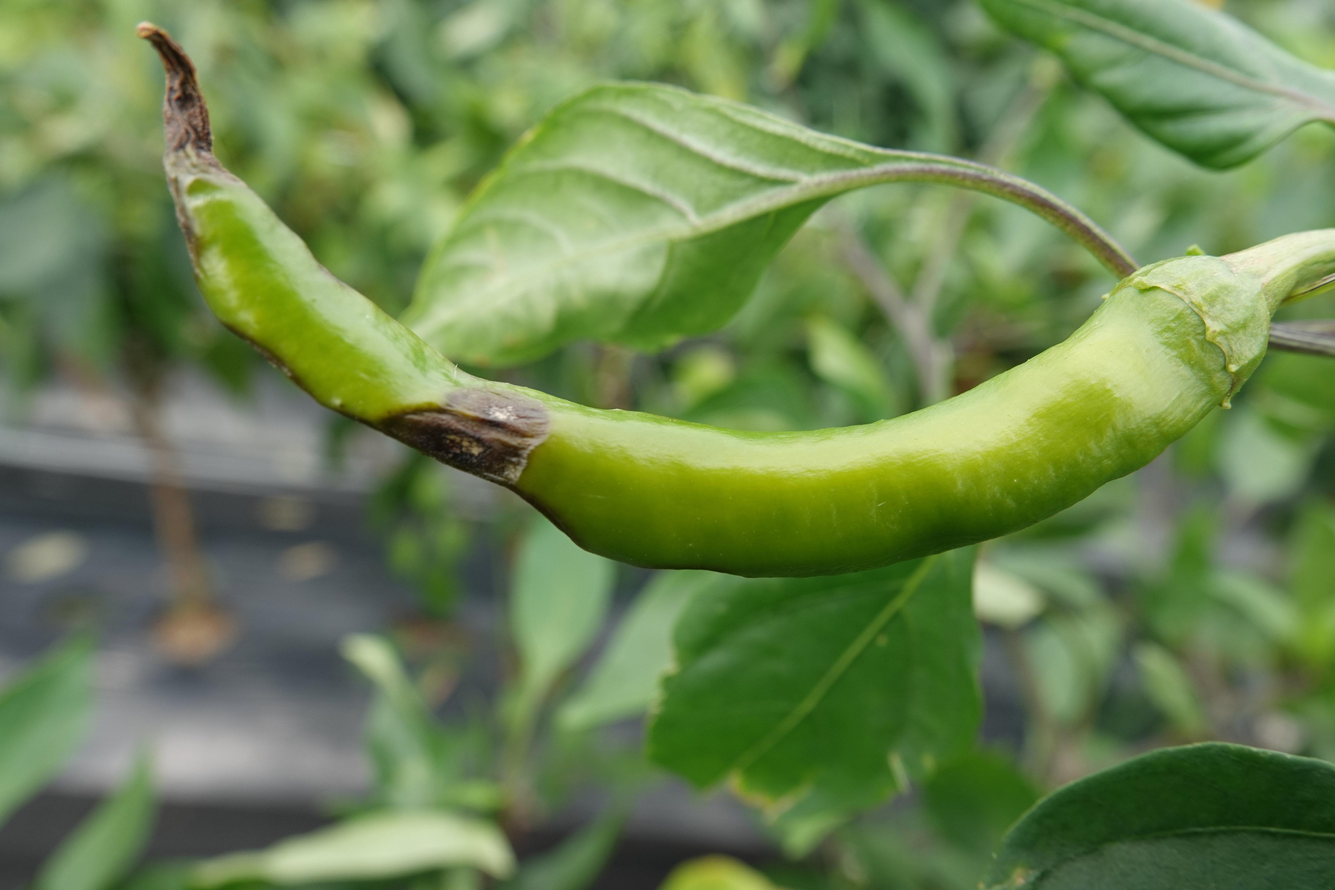Busuk Buah Antraknosa: (132, 18, 1272, 581)
Daun Cabai Sehat: (398, 84, 872, 375), (639, 535, 992, 854), (976, 0, 1335, 175)
